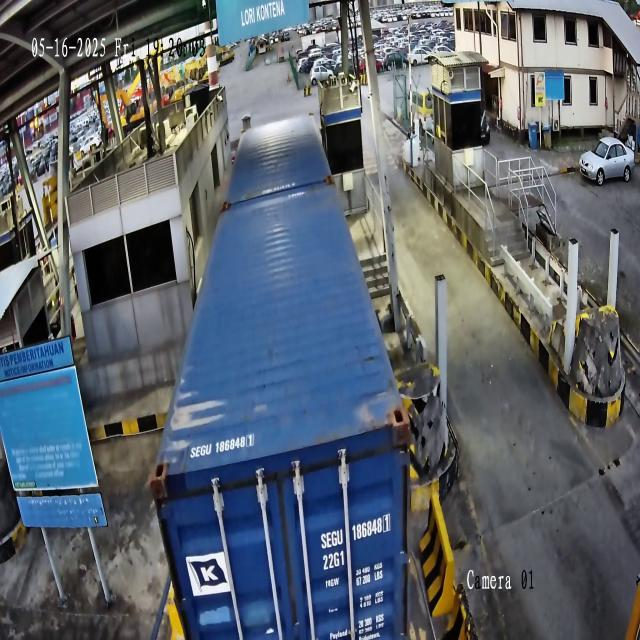ISO: (322, 548, 348, 570)
container_number: (319, 509, 394, 554)
